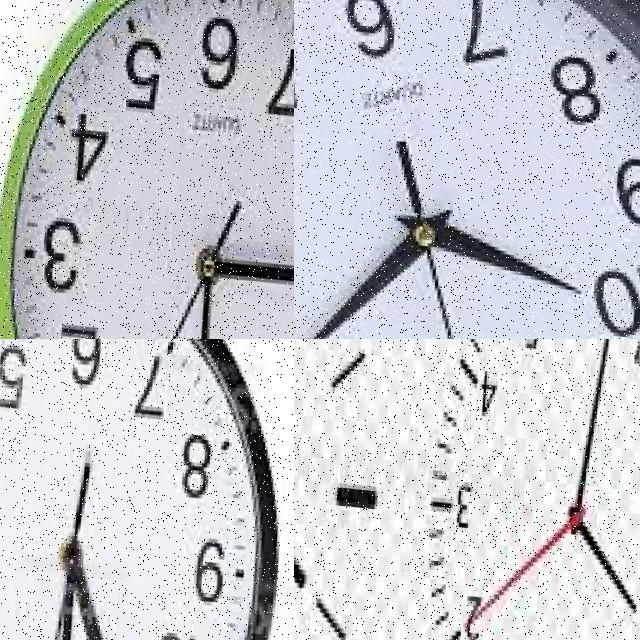Clocks-images: (295, 1, 640, 340), (1, 1, 295, 340), (1, 340, 295, 640), (418, 340, 640, 640), (295, 340, 401, 640)
